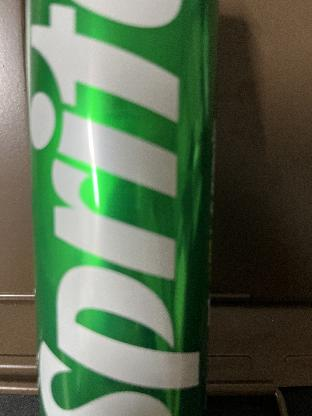Can: (24, 1, 220, 416)
